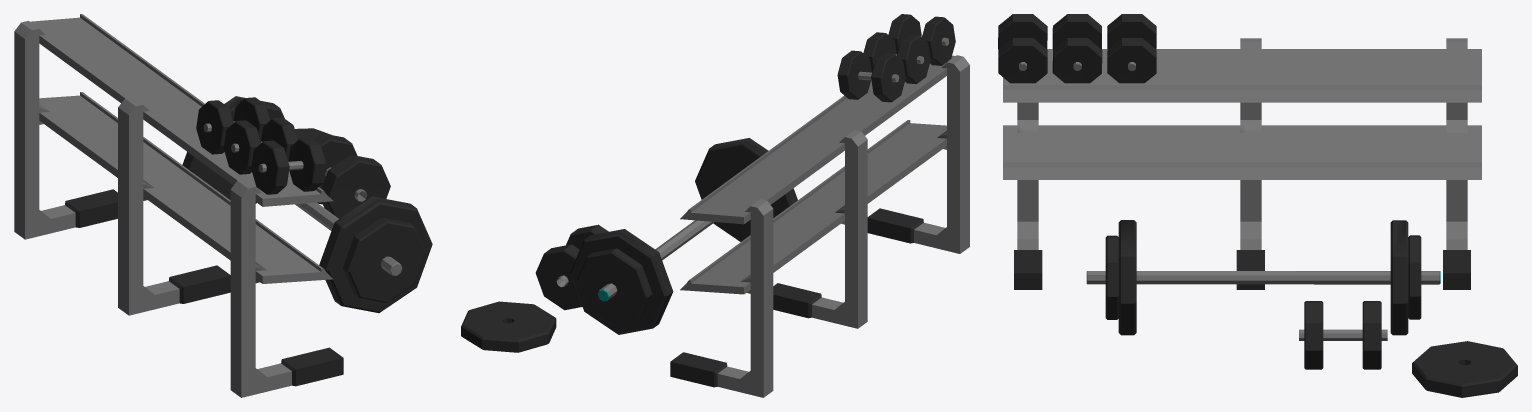
The model's file is Gym Assets.fbx.
3 views of the same model, side by side, from view 1: azimuth 30°, elevation 25°; view 2: azimuth 150°, elevation 25°; view 3: azimuth 270°, elevation 25° (orthographic). The views are drawn at different scales.
Parts seen in each view (by area): view 1: Stand, Large bar dumble, Set of dumbles, Small Dumble; view 2: Stand, Large bar dumble, Set of dumbles, Only weight, Small Dumble; view 3: Stand, Large bar dumble, Set of dumbles, Only weight, Small Dumble.
Part boxes in pixels (x1,y1,x2,y2): Stand: (14,14,343,397); Large bar dumble: (182,96,432,313); Set of dumbles: (196,97,326,194); Small Dumble: (313,133,390,218); Stand: (670,55,969,397); Large bar dumble: (570,138,797,334); Set of dumbles: (837,14,955,102); Only weight: (461,301,556,352); Small Dumble: (535,224,608,310); Stand: (1003,38,1481,289); Large bar dumble: (1086,220,1439,335); Set of dumbles: (998,14,1156,83); Only weight: (1412,341,1517,397); Small Dumble: (1299,301,1387,369).
Size of the model in its own units: 176 by 125 by 243.
